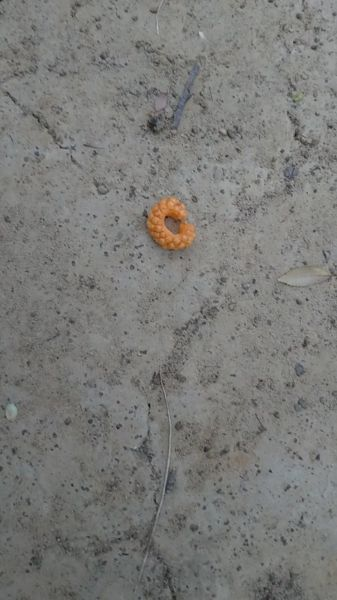eggs: (146, 194, 205, 261)
